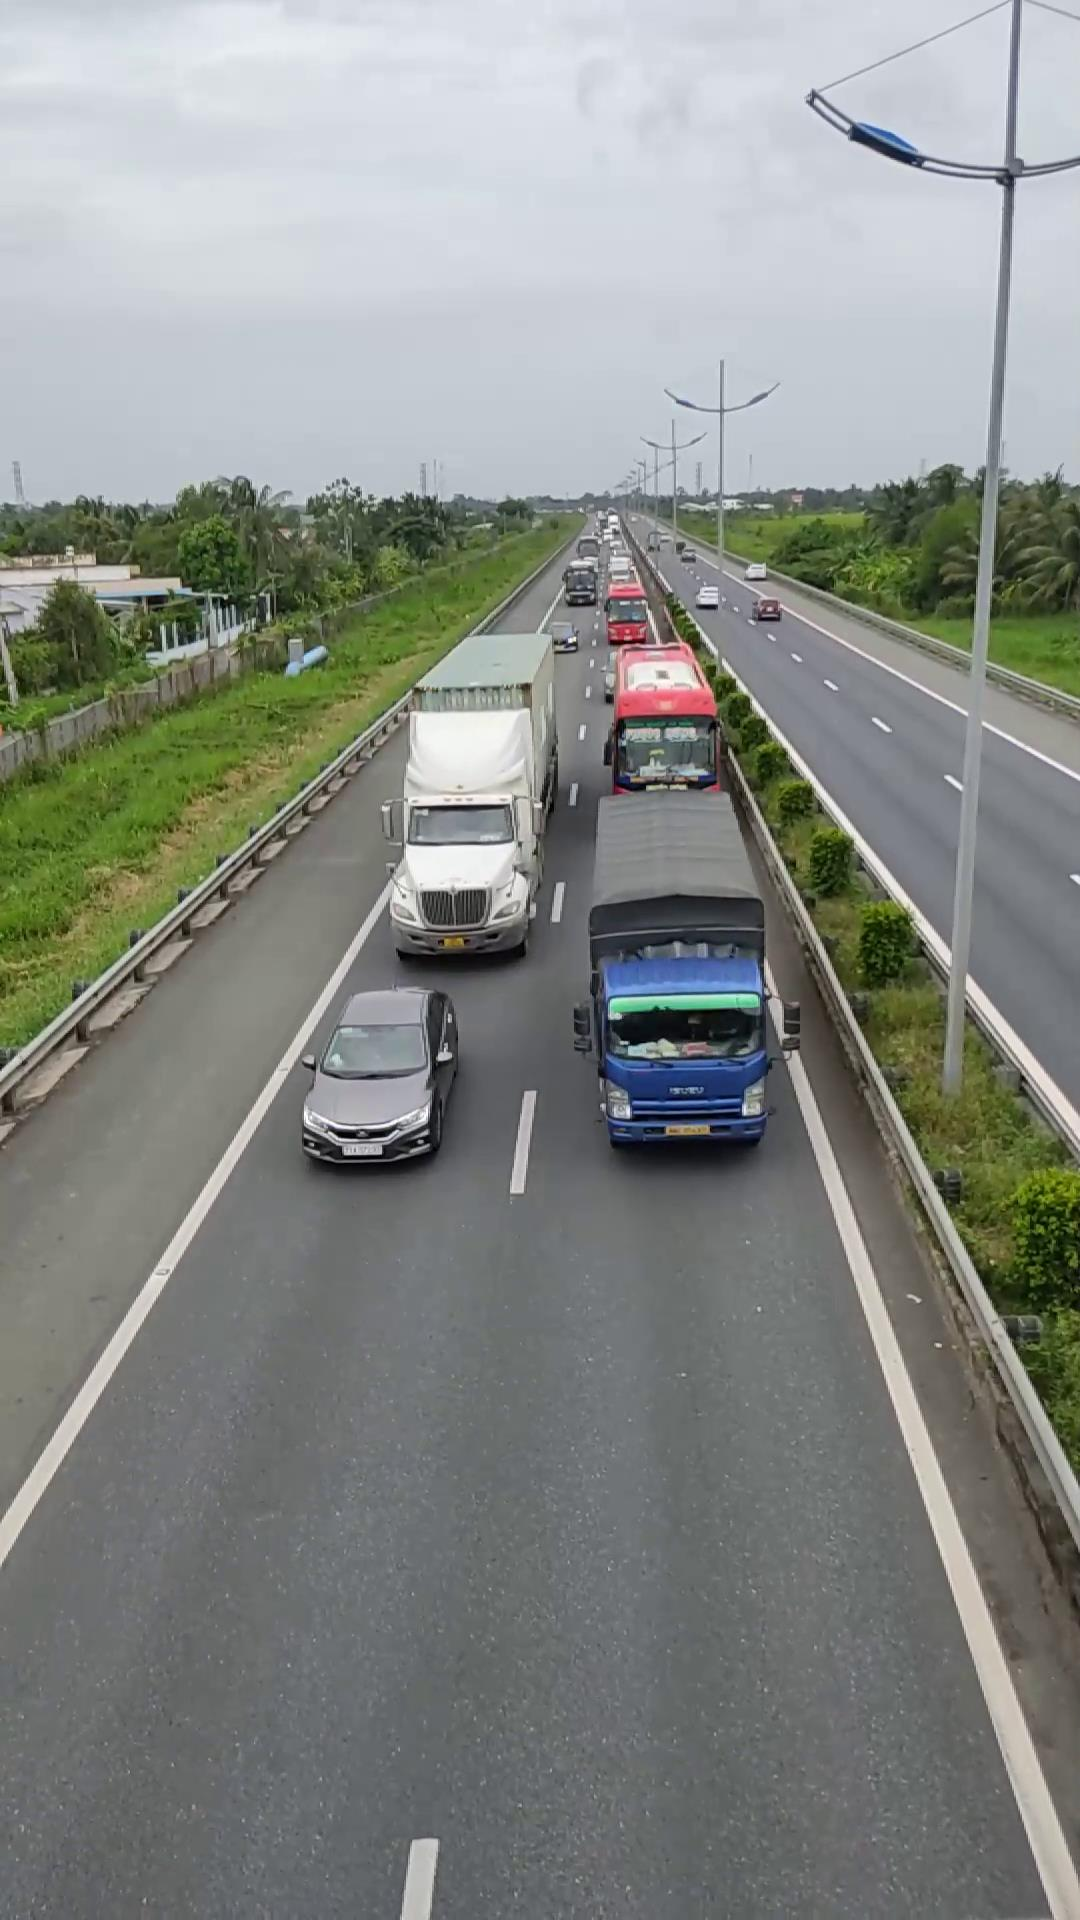car: (297, 984, 463, 1167)
container: (388, 627, 560, 961)
truck: (572, 787, 781, 1151)
